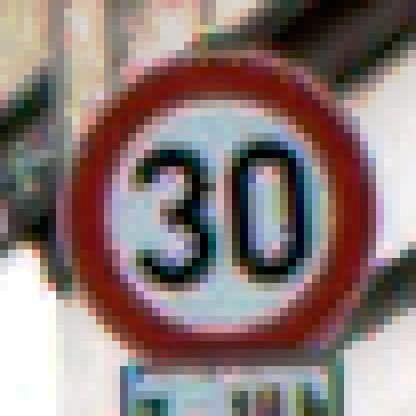Speed Limit -30-: (54, 50, 382, 377)
